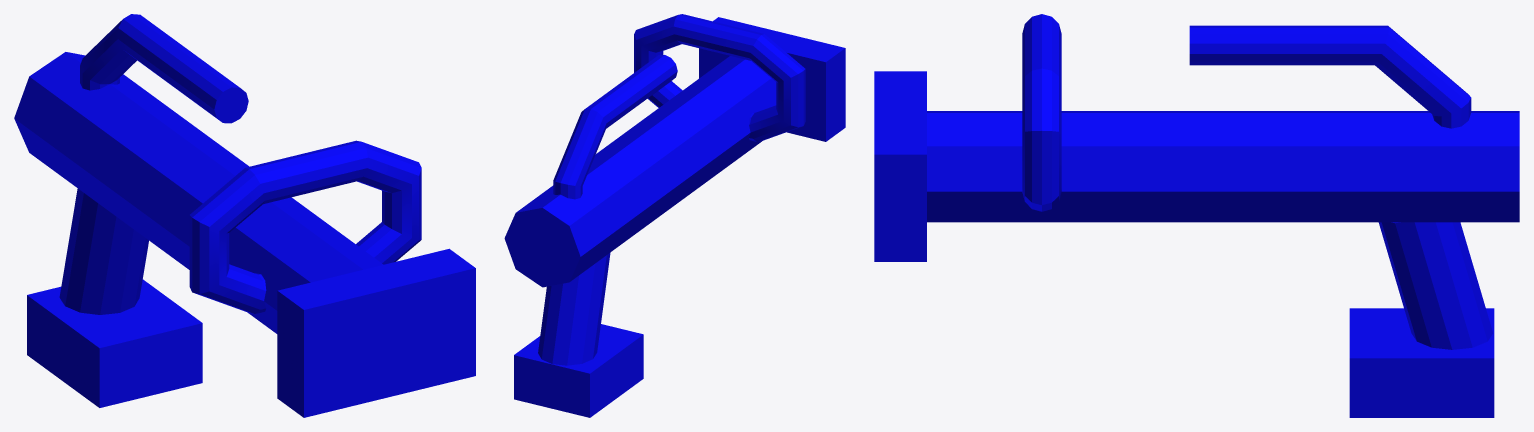
Rendered from SpreaderBody.dae.
3 views of the same model, side by side, from view 1: azimuth 30°, elevation 25°; view 2: azimuth 150°, elevation 25°; view 3: azimuth 270°, elevation 25° (orthographic). The views are drawn at different scales.
Parts seen in each view (by area): view 1: SketchUp (×5); view 2: SketchUp (×6); view 3: SketchUp (×5).
Part boxes in pixels (x1,y1,x2,y2): SketchUp (×5): (14,14,475,417); SketchUp (×6): (504,14,845,417); SketchUp (×5): (874,14,1519,417).
Bounding box in the file's own units: 7.79 × 19.29 × 12.05.
